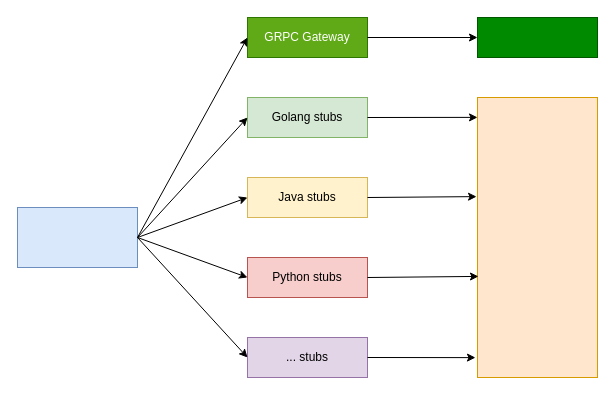
This 615x395 diagram has some shape labels left out. Here are the shapes that lost their labels. From the top down, the centre of each, then its label:
the point at 537,37: Implement REST API
the point at 77,237: gRPC/protobuf description
the point at 537,237: import into code
